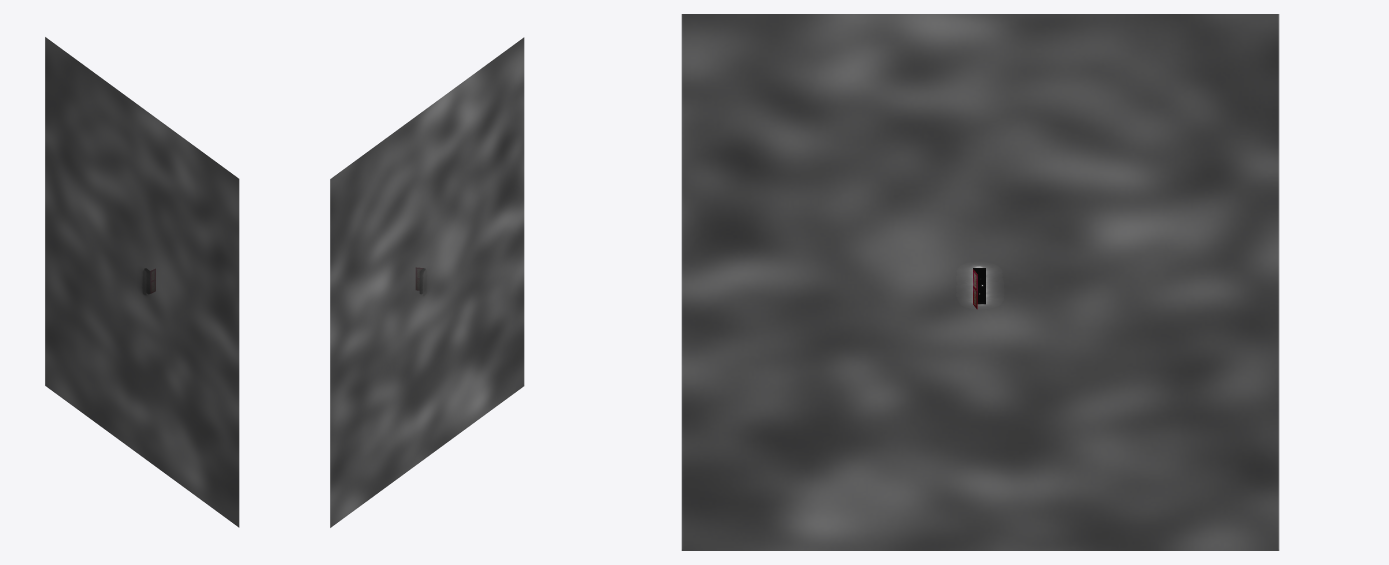
File: door_keelung.glb
The picture shows the model from 3 angles, left to right: view 1: azimuth 30°, elevation 25°; view 2: azimuth 150°, elevation 25°; view 3: azimuth 270°, elevation 25°; orthographic projection. The views are drawn at different scales.
Parts seen in each view (by area): view 1: transparent_disortion; view 2: transparent_disortion; view 3: transparent_disortion.
Boxes of the visible parts, left/top/right/bottom form: transparent_disortion: left=45, top=37, right=239, bottom=527; transparent_disortion: left=330, top=37, right=524, bottom=527; transparent_disortion: left=681, top=14, right=1279, bottom=550.
Bounding box in the file's own units: 4.08 × 108 × 144.
Materials: 5 (4 with a texture image).
